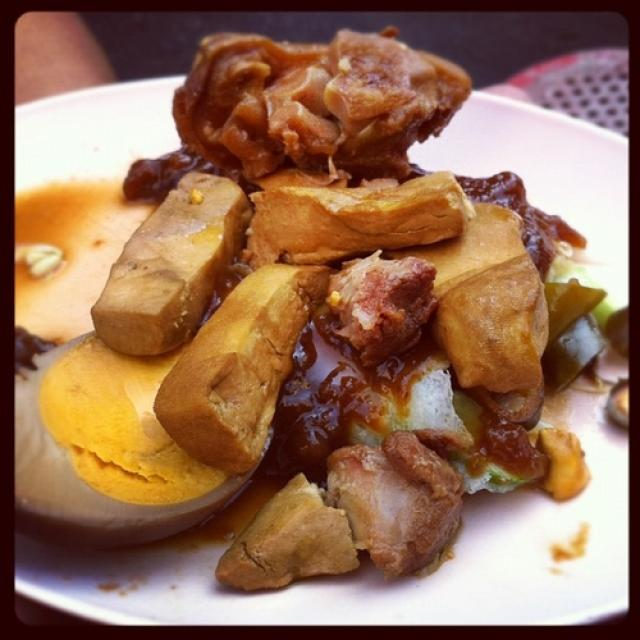猪肉菜式: (43, 28, 610, 584)
